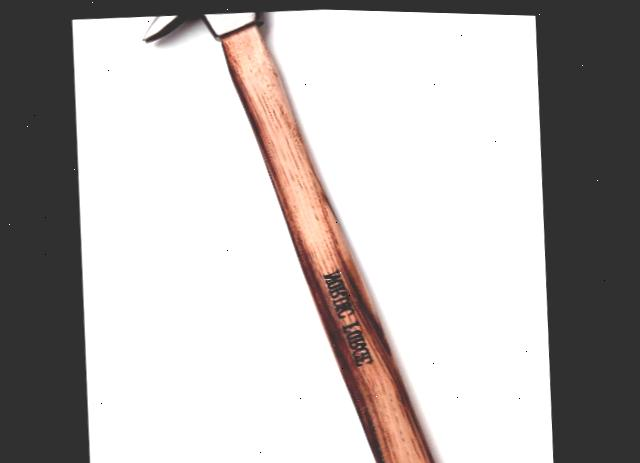hammer: (123, 3, 481, 463)
